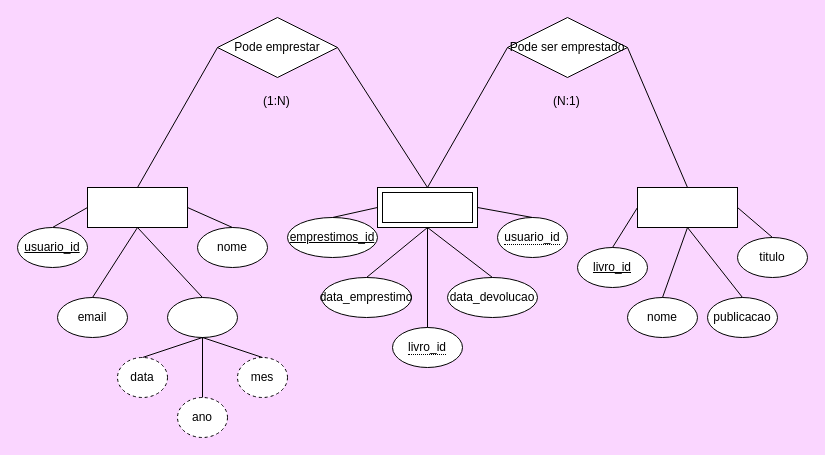
Some shapes in this 825 by 455 pixel diagram are drawn without their labels. Here are the shapes that lost their labels. From the top down, the centre of each, then its label:
At pixel 137 207: "Usuarios".
At pixel 427 207: "Emprestimos".
At pixel 687 207: "Livros".
At pixel 202 317: "nascimento".
